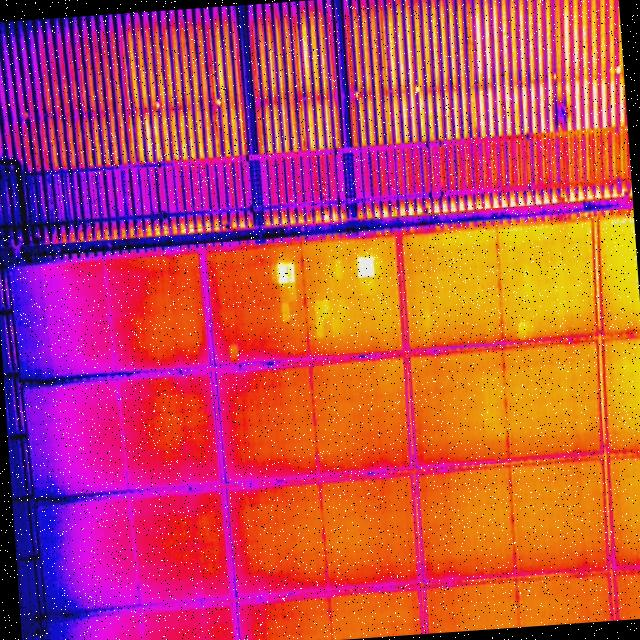Hotspot: (354, 255, 376, 280), (273, 263, 296, 285)
